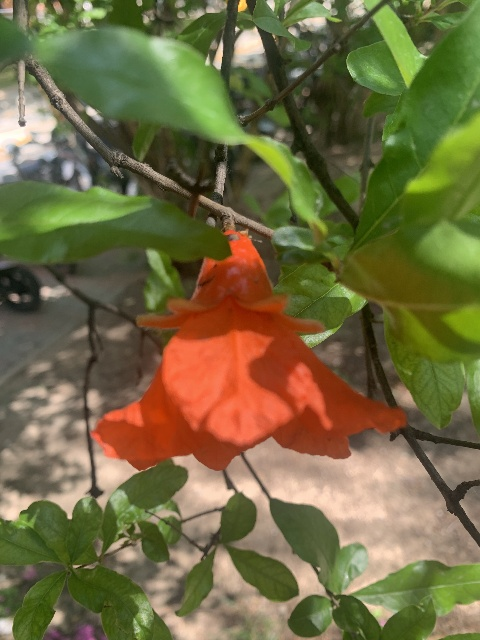flower: (93, 229, 401, 473)
